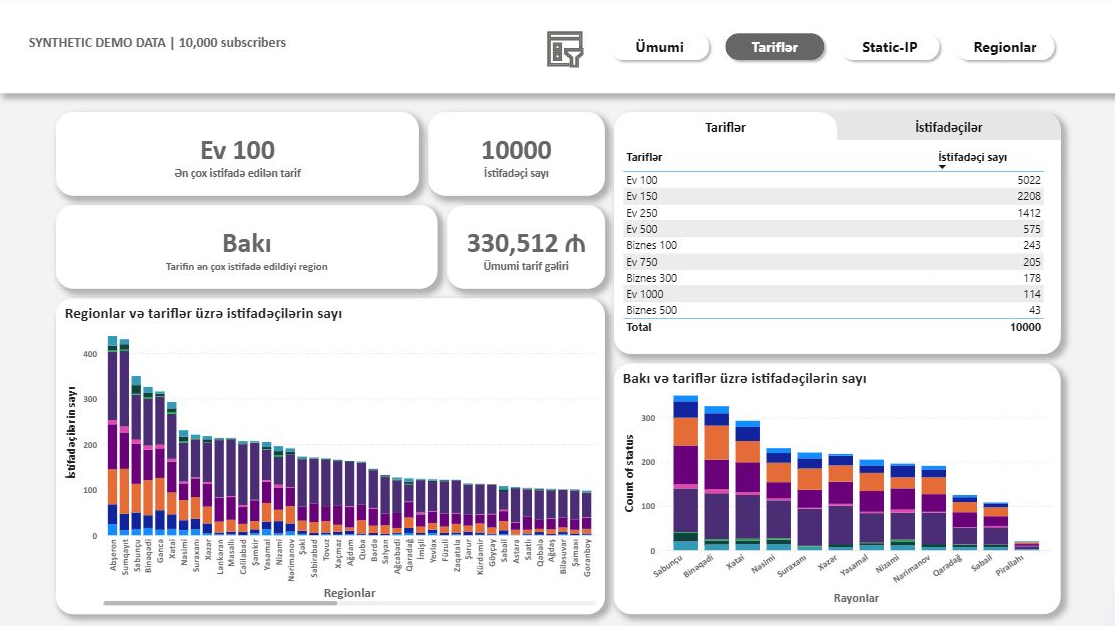

The page's visual inventory and layout, read from the dashboard file:
{"tool":"powerbi","page":{"name":"Tariflər","canvas":[1920,1080],"ordinal":1},"visuals":[{"type":"group","id":"g1","title":"Ribbon","box":[0,0,1920,160],"z":0},{"type":"columnChart","title":"Regionlar və tariflər üzrə istifadəçilərin sayı","fields":{"Category":["butun_musteriler.combined_regions"],"Series":["butun_musteriler.tariff"],"Y":["CountNonNull(butun_musteriler.status)"]},"box":[96,512,944,544],"z":1000},{"type":"columnChart","title":"Bakı və tariflər üzrə istifadəçilərin sayı","fields":{"Category":["butun_musteriler.baku_regions"],"Series":["butun_musteriler.tariff"],"Y":["CountNonNull(butun_musteriler.status)"]},"box":[1056,624,768,432],"z":2000},{"type":"card","fields":{"Values":["Sum(butun_musteriler.tariff_price)"]},"box":[768,352,272,144],"z":3000},{"type":"card","fields":{"Values":["Calendar.new_customers"]},"box":[736,192,304,144],"z":4000},{"type":"card","fields":{"Values":["Calendar.top_tariff_count"]},"box":[96,192,624,144],"z":5000},{"type":"card","fields":{"Values":["Calendar.top_region_count"]},"box":[96,352,656,144],"z":6000},{"type":"shape","box":[1056,192,768,416],"z":7000},{"type":"shape","title":"center","box":[1056,192,768,72],"z":9750},{"type":"bookmarkNavigator","box":[1056,192,768,72],"z":12500},{"type":"shape","box":[1056,240,768,48],"z":15500},{"type":"shape","box":[0,0,1920,160],"z":16000,"group":"g1"},{"type":"tableEx","title":"Tariflər table","fields":{"Values":["butun_musteriler.tariff","CountNonNull(butun_musteriler.tariff)"]},"box":[1056,240,768,368],"z":16500},{"type":"actionButton","title":"Filter","box":[936,48,72,72],"z":18000,"group":"g1"},{"type":"pageNavigator","box":[1040,48,784,64],"z":19000,"group":"g1"},{"type":"shape","box":[40,48,620,48],"z":90000}]}

Visuals, with their boxes in screenshot pixels (x1, y1, x2, y2), scaled from the page's 1920x1080 canvas onto the 1115x626 screenshot:
"Ribbon" group: left=0, top=0, right=1114, bottom=93
"Regionlar və tariflər üzrə istifadəçilərin sayı" columnChart: left=56, top=297, right=604, bottom=612
"Bakı və tariflər üzrə istifadəçilərin sayı" columnChart: left=613, top=362, right=1059, bottom=612
card - Sum(butun_musteriler.tariff_price): left=446, top=204, right=604, bottom=287
card - Calendar.new_customers: left=427, top=111, right=604, bottom=195
card - Calendar.top_tariff_count: left=56, top=111, right=418, bottom=195
card - Calendar.top_region_count: left=56, top=204, right=437, bottom=287
shape: left=613, top=111, right=1059, bottom=352
"center" shape: left=613, top=111, right=1059, bottom=153
bookmarkNavigator: left=613, top=111, right=1059, bottom=153
shape: left=613, top=139, right=1059, bottom=167
shape: left=0, top=0, right=1114, bottom=93
"Tariflər table" tableEx: left=613, top=139, right=1059, bottom=352
"Filter" actionButton: left=544, top=28, right=585, bottom=70
pageNavigator: left=604, top=28, right=1059, bottom=65
shape: left=23, top=28, right=383, bottom=56
